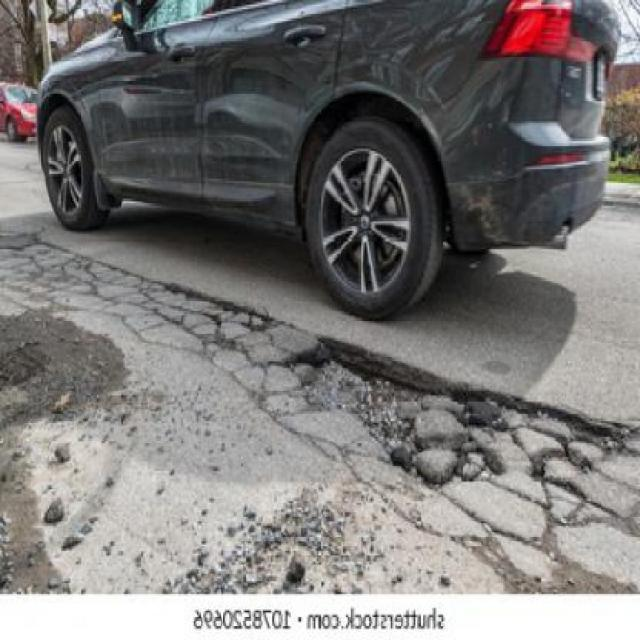Pothole: (269, 327, 533, 481)
